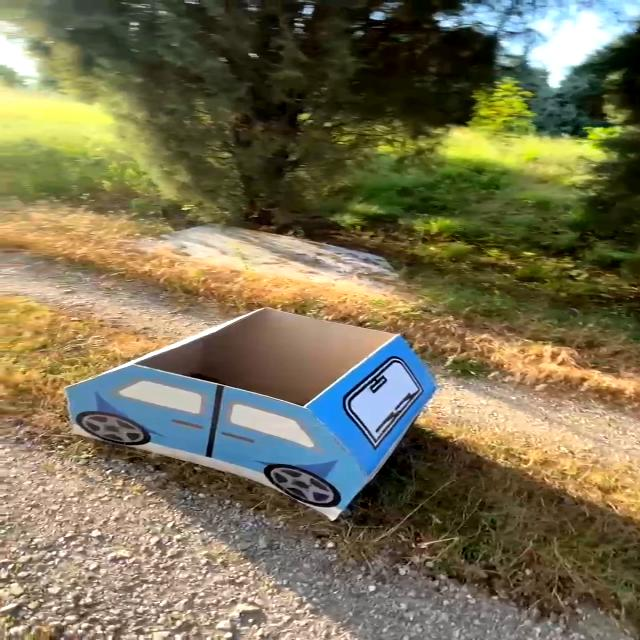blue_car: (17, 290, 503, 552)
